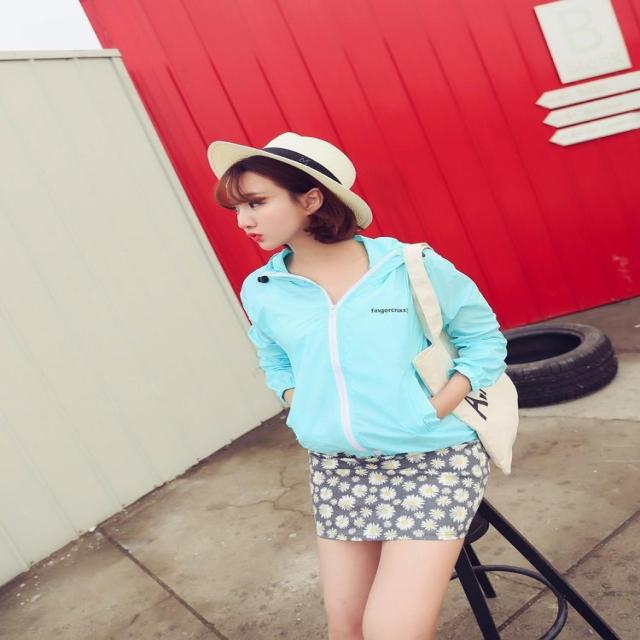long sleeve top: (243, 239, 504, 454)
skirt: (305, 428, 484, 538)
